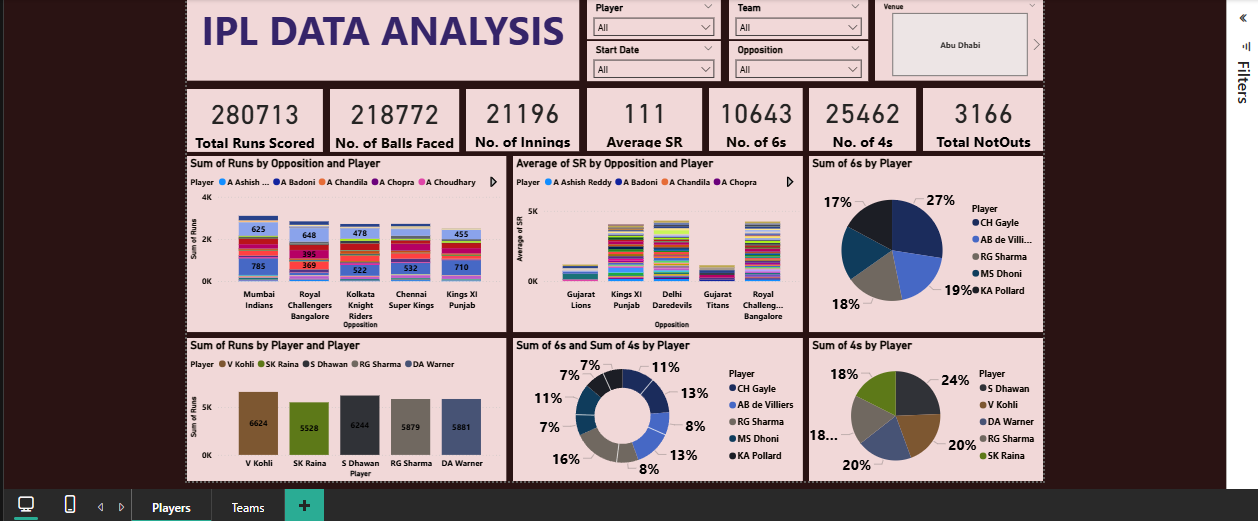

Layout of this report page (visuals, bound fields, positions):
{"tool":"powerbi","page":{"name":"Players","canvas":[1280,720],"ordinal":0},"visuals":[{"type":"card","fields":{"Values":["All_IPL_Innings_2008to2022_V1.Runs"]},"box":[0,134.4,203.2,94.1],"z":0},{"type":"card","fields":{"Values":["All_IPL_Innings_2008to2022_V1.4s"]},"box":[929.1,132.9,159.8,94.1],"z":1000},{"type":"card","fields":{"Values":["All_IPL_Innings_2008to2022_V1.6s"]},"box":[779.8,132.9,140.4,94.1],"z":2000},{"type":"card","fields":{"Values":["All_IPL_Innings_2008to2022_V1.BF"]},"box":[213.6,134.4,192.7,94.1],"z":3000},{"type":"card","fields":{"Values":["All_IPL_Innings_2008to2022_V1.Inns"]},"box":[416.8,134.4,168.8,92.6],"z":4000},{"type":"card","fields":{"Values":["All_IPL_Innings_2008to2022_V1.SR"]},"box":[597.5,132.9,171.8,94.1],"z":5000},{"type":"card","fields":{"Values":["All_IPL_Innings_2008to2022_V1.NotOut"]},"box":[1099.4,132.9,180.7,94.1],"z":6000},{"type":"textbox","box":[0,0,585.6,122.5],"z":7000},{"type":"slicer","fields":{"Values":["All_IPL_Innings_2008to2022_V1.Player"]},"box":[597.5,0,200.2,59.8],"z":8000},{"type":"slicer","fields":{"Values":["All_IPL_Innings_2008to2022_V1.Team"]},"box":[809.6,0,207.6,59.8],"z":9000},{"type":"slicer","fields":{"Values":["All_IPL_Innings_2008to2022_V1.Venue"]},"box":[1027.7,0,252.4,122.5],"z":10000},{"type":"slicer","fields":{"Values":["All_IPL_Innings_2008to2022_V1.Opposition"]},"box":[809.6,62.7,207.6,59.8],"z":11000},{"type":"pieChart","fields":{"Category":["All_IPL_Innings_2008to2022_V1.Player"],"Y":["All_IPL_Innings_2008to2022_V1.4s"]},"box":[929.1,506.4,351,213.6],"z":12000},{"type":"donutChart","fields":{"Category":["All_IPL_Innings_2008to2022_V1.Player"],"Y":["All_IPL_Innings_2008to2022_V1.6s","All_IPL_Innings_2008to2022_V1.4s"]},"box":[487,506.4,433.2,213.6],"z":13000},{"type":"columnChart","fields":{"Y":["All_IPL_Innings_2008to2022_V1.SR"],"Series":["All_IPL_Innings_2008to2022_V1.Player"],"Category":["All_IPL_Innings_2008to2022_V1.Opposition"]},"box":[487,234.5,433.2,262.9],"z":14000},{"type":"slicer","fields":{"Values":["All_IPL_Innings_2008to2022_V1.Start Date"]},"box":[597.5,62.7,200.2,59.8],"z":15000},{"type":"columnChart","fields":{"Category":["All_IPL_Innings_2008to2022_V1.Player"],"Series":["All_IPL_Innings_2008to2022_V1.Player"],"Y":["All_IPL_Innings_2008to2022_V1.Runs"]},"box":[0,506.4,476.5,213.6],"z":16000},{"type":"columnChart","fields":{"Series":["All_IPL_Innings_2008to2022_V1.Player"],"Y":["All_IPL_Innings_2008to2022_V1.Runs"],"Category":["All_IPL_Innings_2008to2022_V1.Opposition"]},"box":[0,234.5,476.5,262.9],"z":17000},{"type":"pieChart","fields":{"Category":["All_IPL_Innings_2008to2022_V1.Player"],"Y":["All_IPL_Innings_2008to2022_V1.6s"]},"box":[929.1,234.5,351,262.9],"z":18000}]}

Visuals, with their boxes on the page's 1280x720 design canvas (x1, y1, x2, y2). These are canvas units, not pixel positions in the 1258x521 screenshot, which may show the page scaled, cropped or inside an application window:
card - All_IPL_Innings_2008to2022_V1.Runs: pyautogui.locateOnScreen(0, 134, 203, 228)
card - All_IPL_Innings_2008to2022_V1.4s: pyautogui.locateOnScreen(929, 133, 1089, 227)
card - All_IPL_Innings_2008to2022_V1.6s: pyautogui.locateOnScreen(780, 133, 920, 227)
card - All_IPL_Innings_2008to2022_V1.BF: pyautogui.locateOnScreen(214, 134, 406, 228)
card - All_IPL_Innings_2008to2022_V1.Inns: pyautogui.locateOnScreen(417, 134, 586, 227)
card - All_IPL_Innings_2008to2022_V1.SR: pyautogui.locateOnScreen(598, 133, 769, 227)
card - All_IPL_Innings_2008to2022_V1.NotOut: pyautogui.locateOnScreen(1099, 133, 1280, 227)
textbox: pyautogui.locateOnScreen(0, 0, 586, 122)
slicer - All_IPL_Innings_2008to2022_V1.Player: pyautogui.locateOnScreen(598, 0, 798, 60)
slicer - All_IPL_Innings_2008to2022_V1.Team: pyautogui.locateOnScreen(810, 0, 1017, 60)
slicer - All_IPL_Innings_2008to2022_V1.Venue: pyautogui.locateOnScreen(1028, 0, 1280, 122)
slicer - All_IPL_Innings_2008to2022_V1.Opposition: pyautogui.locateOnScreen(810, 63, 1017, 122)
pieChart - All_IPL_Innings_2008to2022_V1.Player x All_IPL_Innings_2008to2022_V1.4s: pyautogui.locateOnScreen(929, 506, 1280, 720)
donutChart - All_IPL_Innings_2008to2022_V1.Player x All_IPL_Innings_2008to2022_V1.6s: pyautogui.locateOnScreen(487, 506, 920, 720)
columnChart - All_IPL_Innings_2008to2022_V1.SR x All_IPL_Innings_2008to2022_V1.Player: pyautogui.locateOnScreen(487, 234, 920, 497)
slicer - All_IPL_Innings_2008to2022_V1.Start Date: pyautogui.locateOnScreen(598, 63, 798, 122)
columnChart - All_IPL_Innings_2008to2022_V1.Player x All_IPL_Innings_2008to2022_V1.Player: pyautogui.locateOnScreen(0, 506, 476, 720)
columnChart - All_IPL_Innings_2008to2022_V1.Player x All_IPL_Innings_2008to2022_V1.Runs: pyautogui.locateOnScreen(0, 234, 476, 497)
pieChart - All_IPL_Innings_2008to2022_V1.Player x All_IPL_Innings_2008to2022_V1.6s: pyautogui.locateOnScreen(929, 234, 1280, 497)
